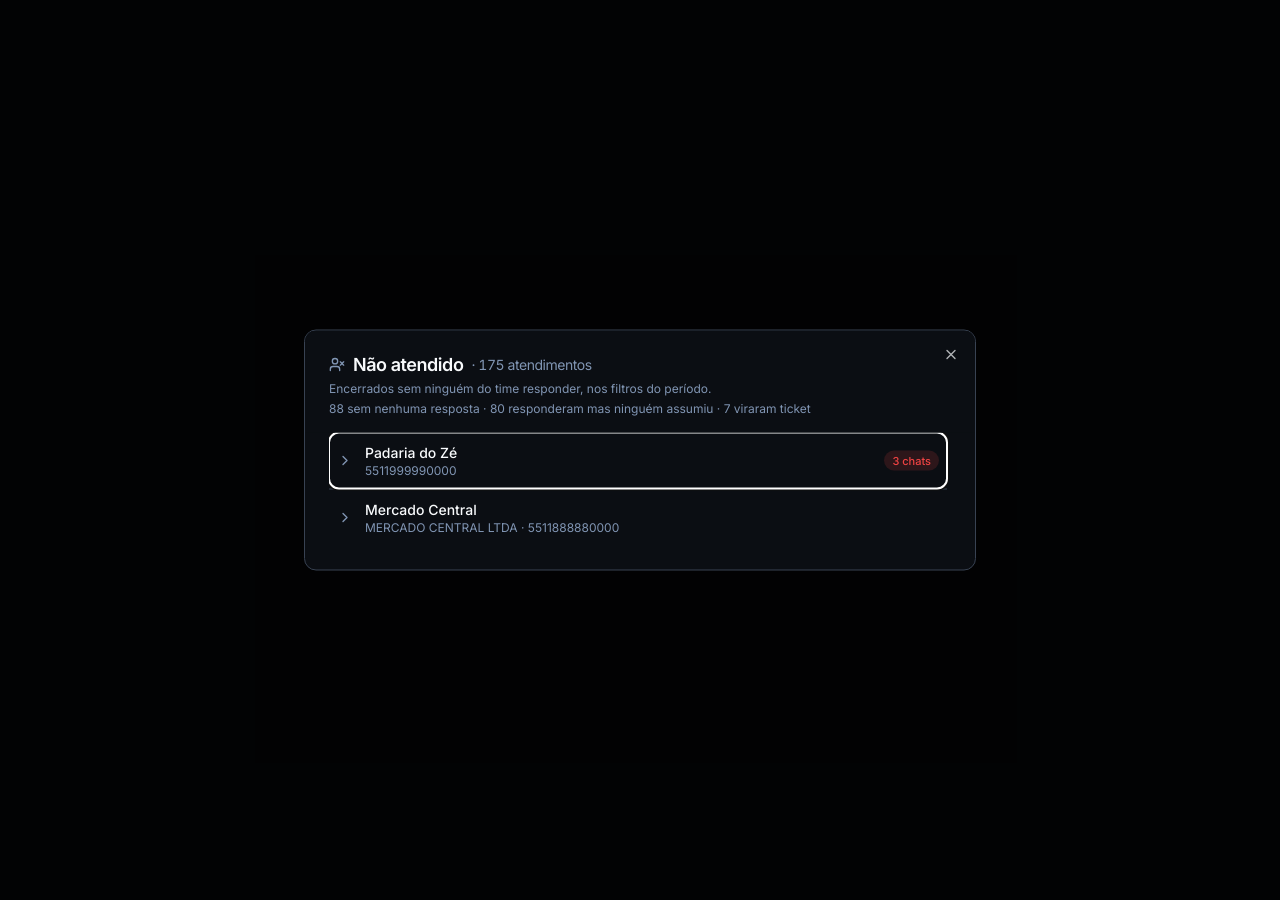
Test case: NaoAtendidosDialog › expande o contato e mostra os chats só depois do clique
Step 1. Click the button "Padaria do Zé 5511999990000 3 chats" → (411, 452), box [329, 432, 947, 488]
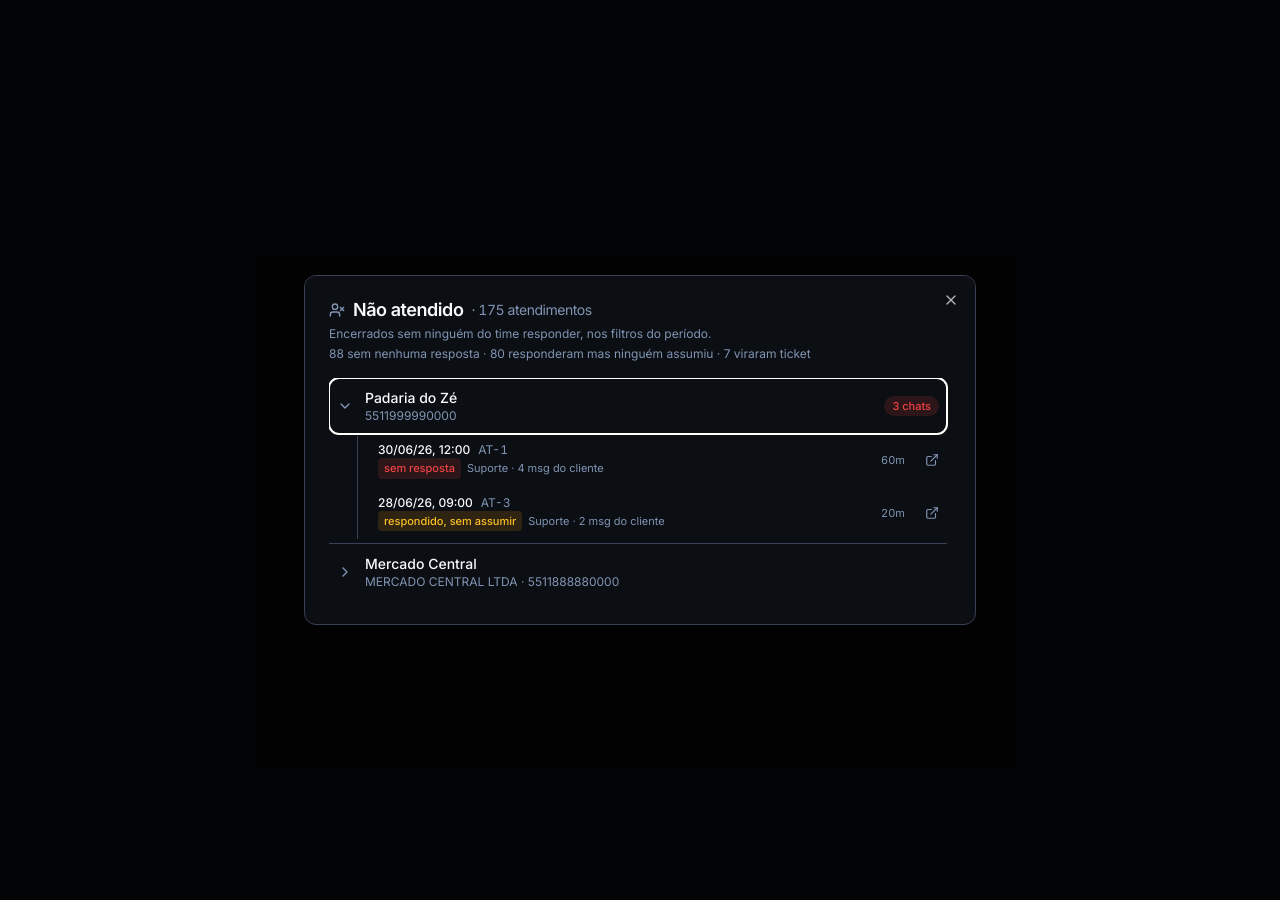
Expected: the text "4 msg do cliente" is shown, [467, 461, 604, 475]
